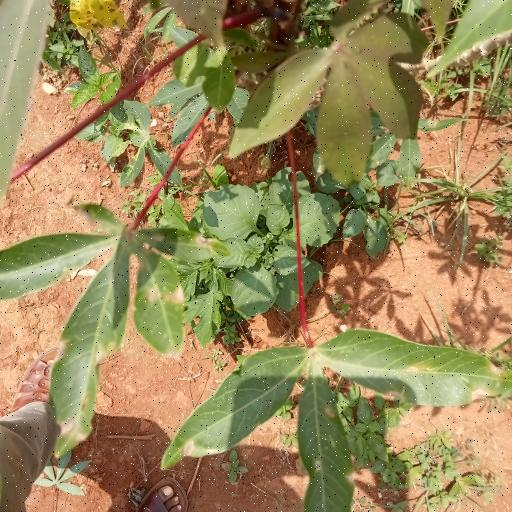Cassava_Brown_Leaf_Spot: (175, 333, 512, 509), (0, 221, 219, 435)
